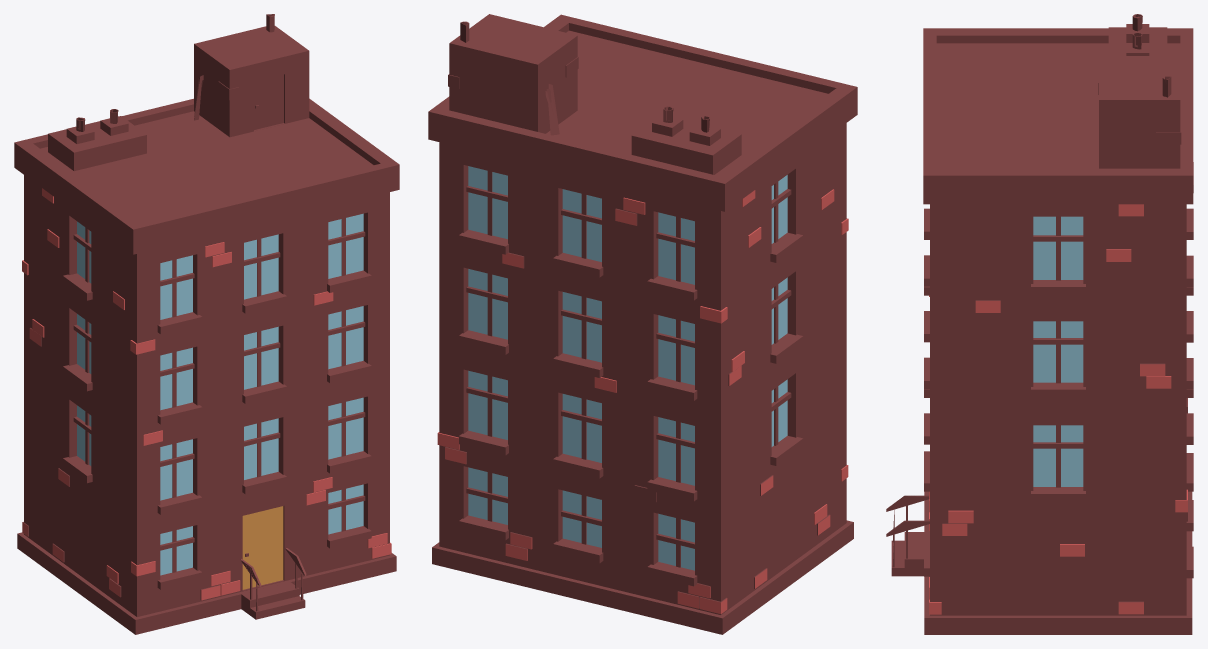
File: House_01.fbx
3 renders of one model, left to right at view 1: azimuth 30°, elevation 25°; view 2: azimuth 150°, elevation 25°; view 3: azimuth 270°, elevation 25°, orthographic. The views are drawn at different scales.
Parts seen in each view (by area): view 1: House_01; view 2: House_01; view 3: House_01.
Boxes of the visible parts, x1,y1,x2,y2 form: House_01: (14, 14, 399, 634); House_01: (428, 14, 857, 634); House_01: (886, 14, 1193, 634).
Bounding box in the file's own units: 714 × 1235 × 630.
